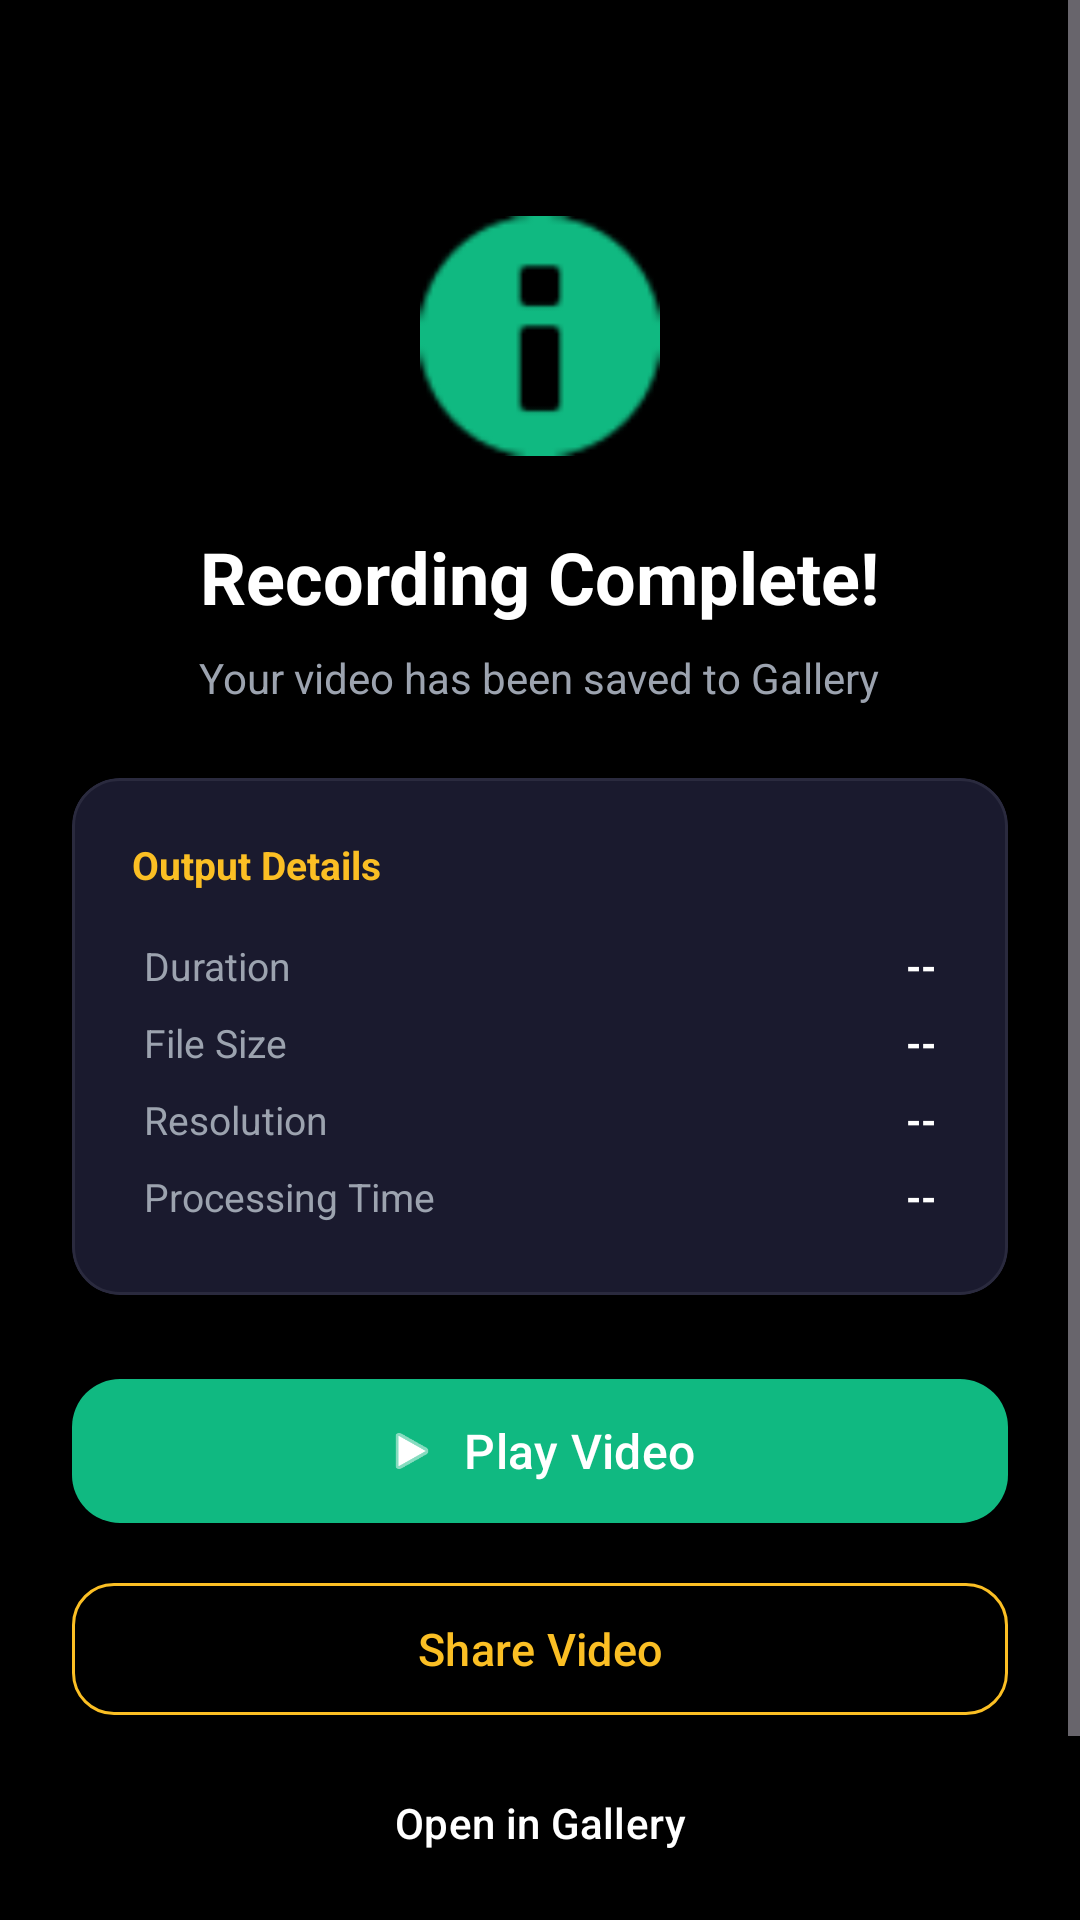

Named icons in this screenshot (1080 × 1920) and their centers, (x,y):
info: (540,336)
